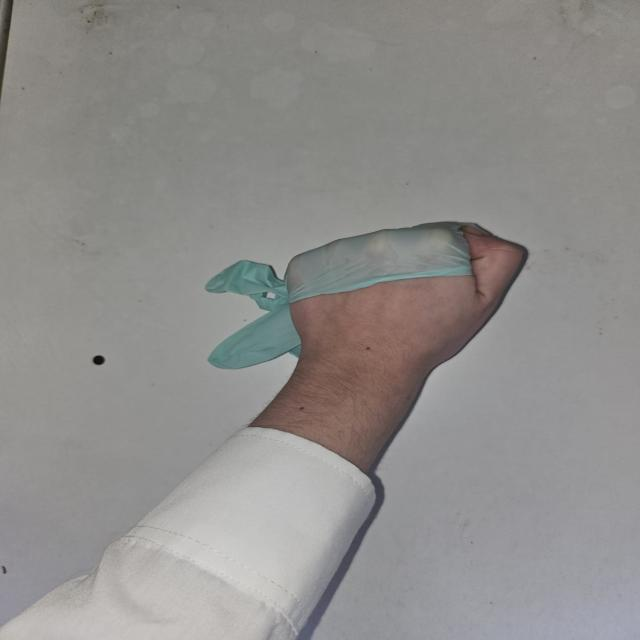glove_partial: (203, 220, 529, 370)
